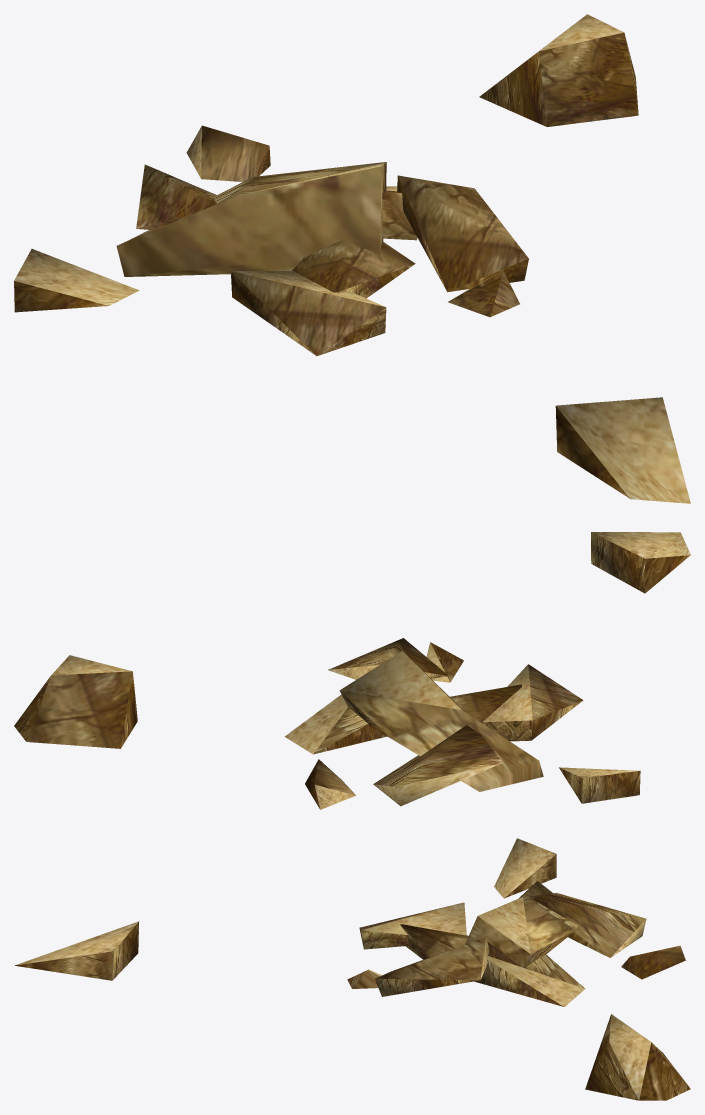
Rendered from S_Rock_Yellow052.FBX.
3 renders of one model, top to bottom at view 1: azimuth 30°, elevation 25°; view 2: azimuth 150°, elevation 25°; view 3: azimuth 270°, elevation 25°, orthographic. The views are drawn at different scales.
Parts seen in each view (by area): view 1: S_Rock_Yellow052; view 2: S_Rock_Yellow052; view 3: S_Rock_Yellow052.
Boxes of the visible parts, left/top/right/bottom form: S_Rock_Yellow052: left=14, top=14, right=690, bottom=503; S_Rock_Yellow052: left=14, top=532, right=690, bottom=809; S_Rock_Yellow052: left=15, top=838, right=690, bottom=1100.
Bounding box in the file's own units: 248 × 297 × 34.82.
